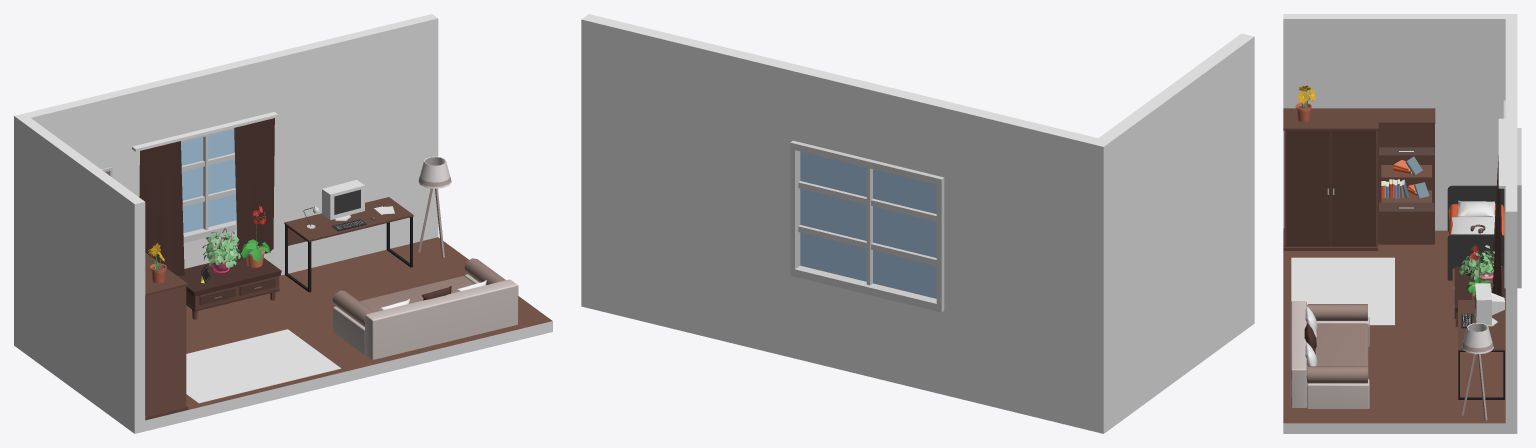
File: room_7.glb
3 views of the same model, side by side, from view 1: azimuth 30°, elevation 25°; view 2: azimuth 150°, elevation 25°; view 3: azimuth 270°, elevation 25° (orthographic). The views are drawn at different scales.
Parts seen in each view (by area): view 1: Walls_006.120, Walls_006.119, Walls_009.005, sofa_004.001, Walls_006.118, Walls_006.122, Walls_003.039, closet_026.003, window_020.002, Curtains_019.001, Curtains_019.002, shelf_021.001 (+7 smaller); view 2: Walls_006.120, Walls_006.119, Walls_006.118, window_020.002, Walls_006.121, Walls_006.122; view 3: Walls_006.119, Walls_009.005, closet_026.003, sofa_004.001, closet_037.001, Walls_003.039, Walls_006.120, bed_021.001, office_table_039.001, lamp_floor_013.010, window_020.002, electronics_008.001 (+13 smaller).
Boxes of the visible parts, x1,y1,x2,y2 form: Walls_006.120: [260, 14, 438, 275]; Walls_006.119: [14, 113, 145, 433]; Walls_009.005: [145, 237, 552, 431]; sofa_004.001: [332, 258, 518, 359]; Walls_006.118: [25, 84, 150, 196]; Walls_006.122: [145, 56, 265, 141]; Walls_003.039: [186, 329, 340, 403]; closet_026.003: [145, 253, 188, 420]; window_020.002: [181, 128, 236, 242]; Curtains_019.001: [139, 141, 184, 275]; Curtains_019.002: [234, 118, 274, 262]; shelf_021.001: [177, 256, 281, 319]; Walls_006.120: [581, 14, 803, 358]; Walls_006.119: [1090, 33, 1254, 433]; Walls_006.118: [940, 101, 1097, 430]; window_020.002: [790, 140, 944, 312]; Walls_006.121: [797, 277, 940, 393]; Walls_006.122: [797, 66, 947, 176]; Walls_006.119: [1283, 14, 1517, 230]; Walls_009.005: [1283, 230, 1505, 433]; closet_026.003: [1283, 108, 1378, 250]; sofa_004.001: [1290, 301, 1369, 408]; closet_037.001: [1378, 108, 1435, 244]; Walls_003.039: [1291, 257, 1394, 325]; Walls_006.120: [1505, 130, 1517, 433]; bed_021.001: [1447, 185, 1504, 280]; office_table_039.001: [1458, 300, 1505, 399]; lamp_floor_013.010: [1461, 323, 1493, 420]; window_020.002: [1504, 128, 1521, 288]; electronics_008.001: [1475, 283, 1504, 326].
Size of the model in its own units: 8 by 4.2 by 4.07.
1 material, 1 textured.
